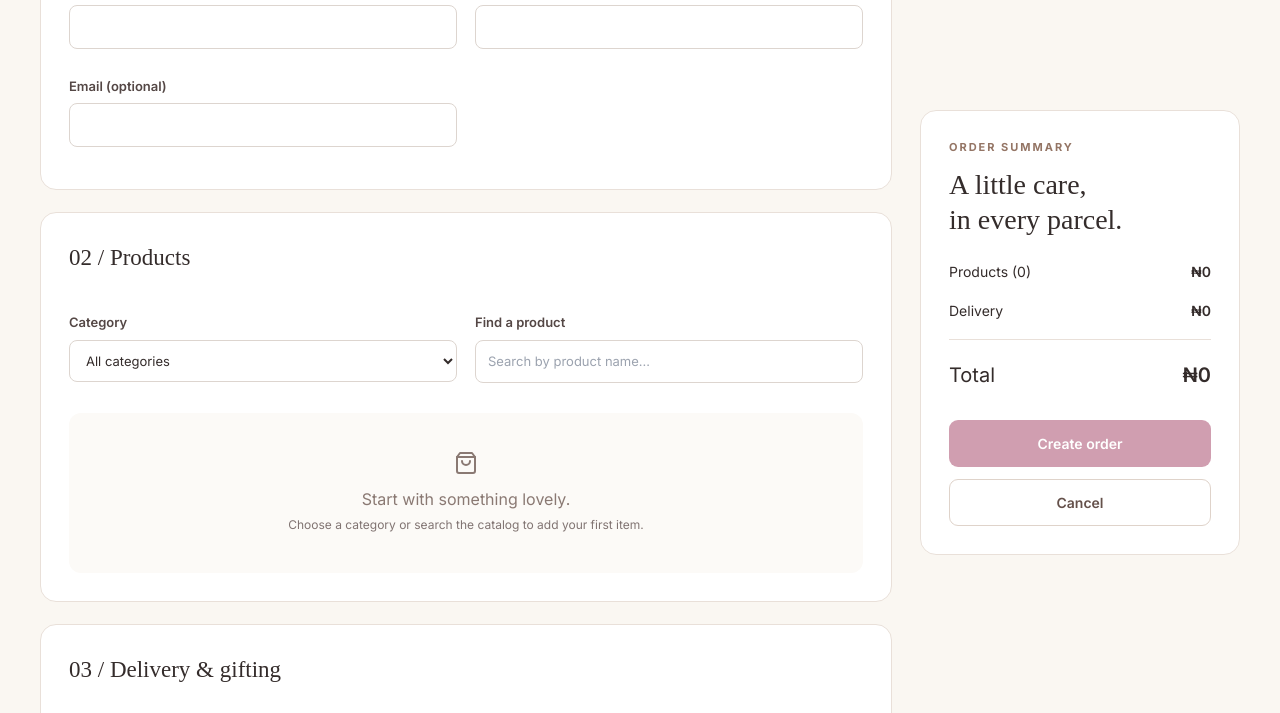
category selection combines with name search and can be cleared
The image size is (1280, 713).
(page scrolled)
Select "Bags" in the dropdown labelled "Category" at (263, 361), box [69,340,457,382]
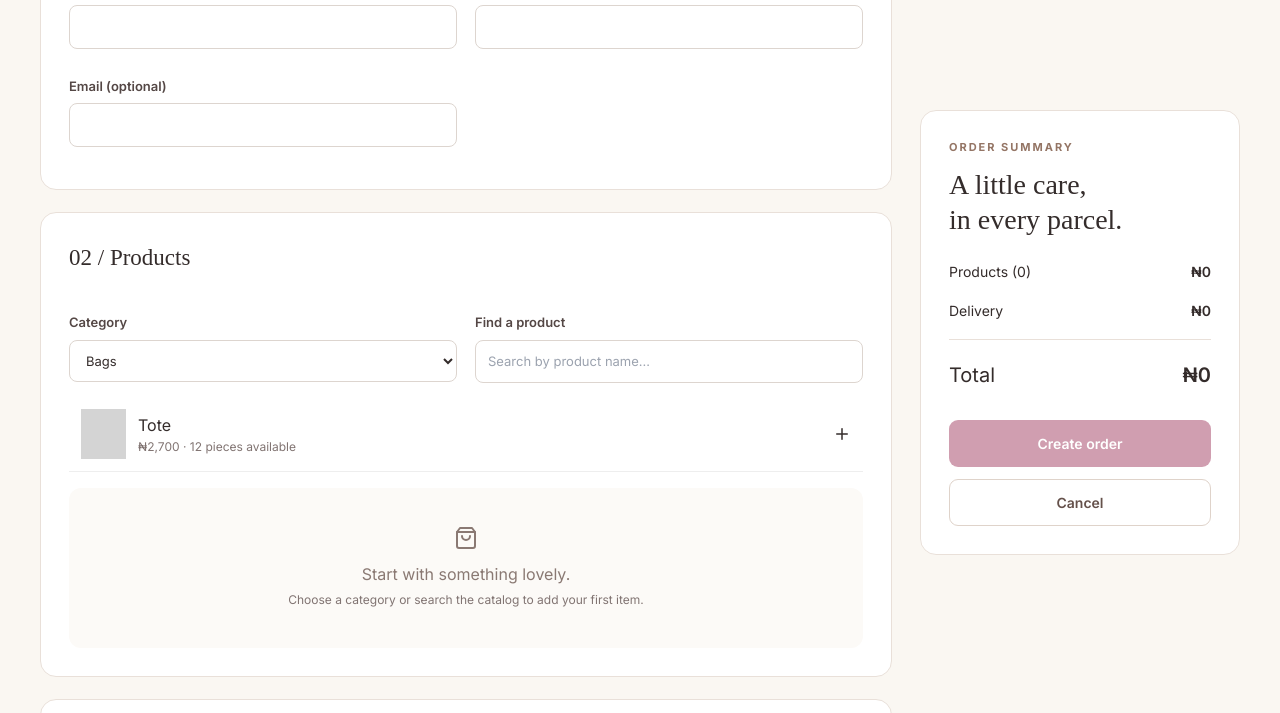
Type "Mug" into the search field labelled "Find a product" at (669, 361), box [475,340,863,383]
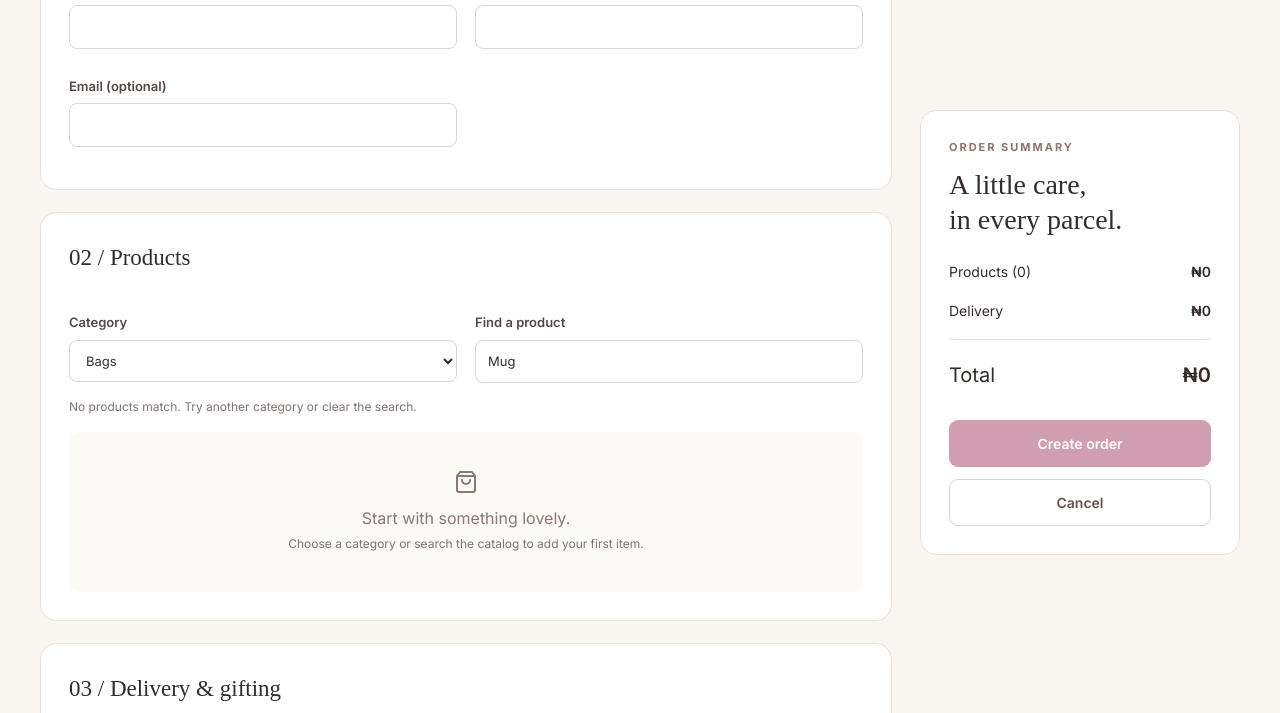
Check: the message shows "No products match", box [69,399,417,414]
Select "All categories" in the dropdown labelled "Category" at (263, 361), box [69,340,457,382]
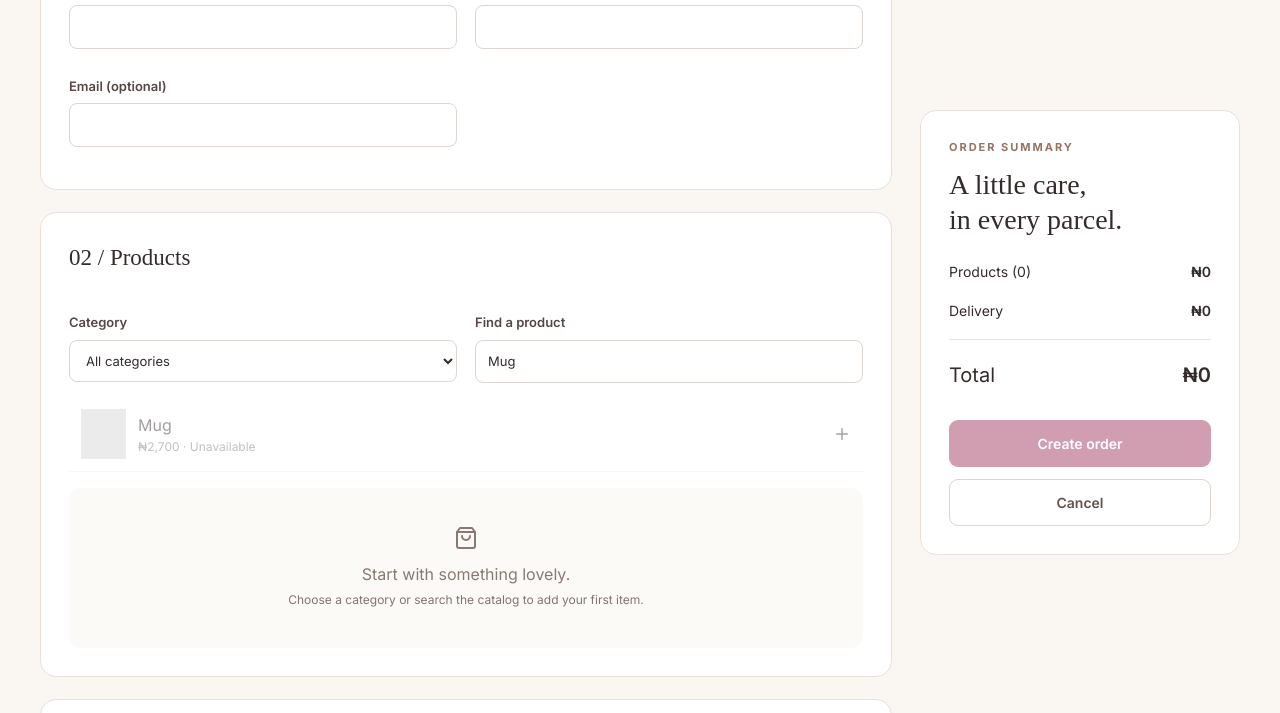
Check: the button "Mug ₦2,700 · Unavailable" is disabled, box [69,397,863,472]
